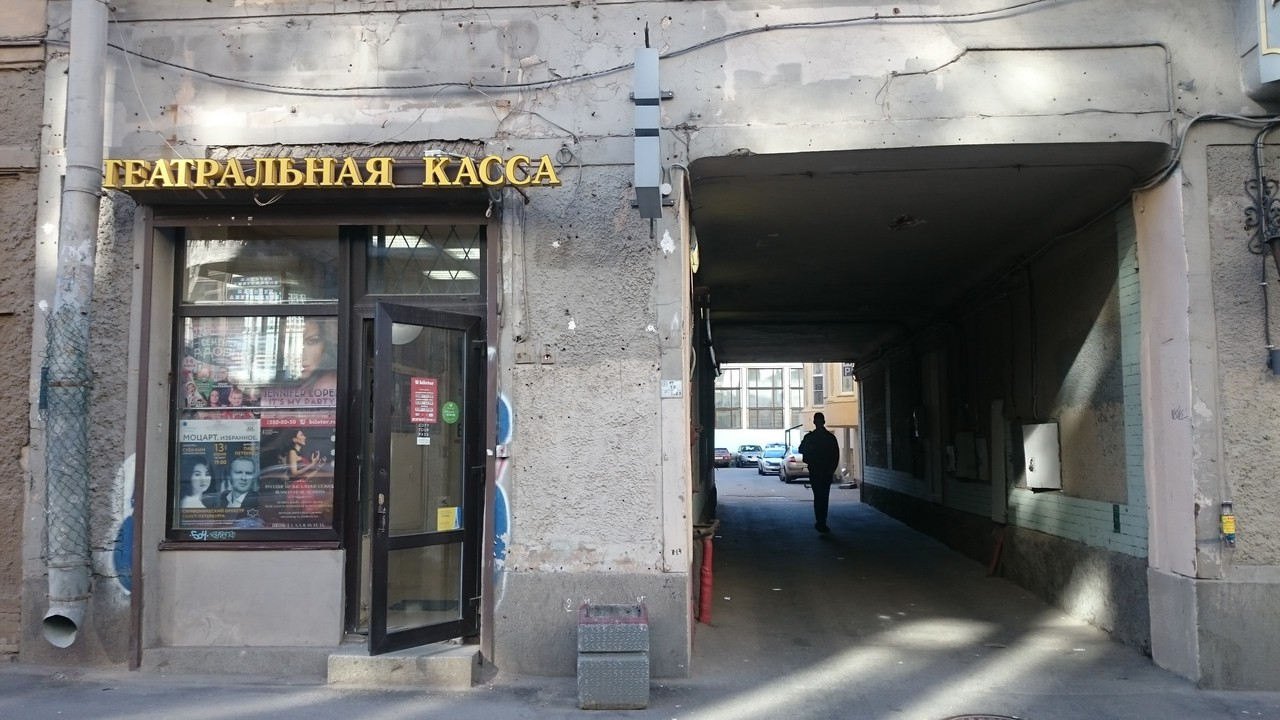arch: (673, 142, 1203, 689)
cantilever: (627, 21, 675, 226)
signboard: (102, 156, 557, 189)
window: (174, 237, 339, 539)
